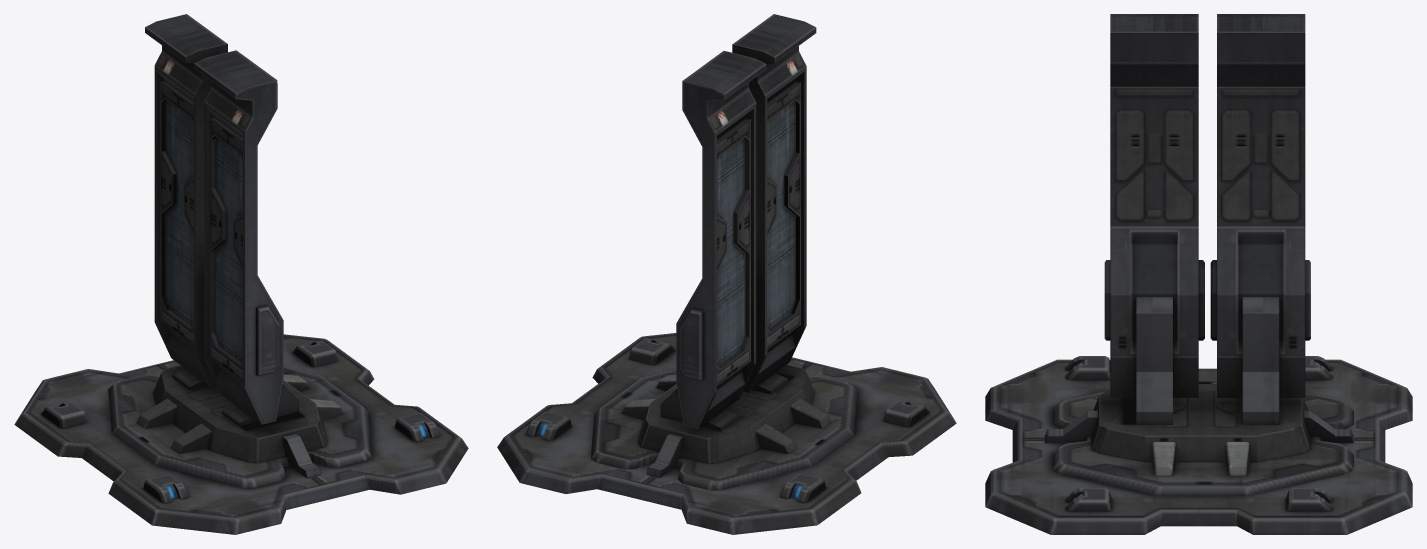
The model's file is Communication-Tower.FBX.
3 views of the same model, side by side, from view 1: azimuth 30°, elevation 25°; view 2: azimuth 150°, elevation 25°; view 3: azimuth 270°, elevation 25° (orthographic). The views are drawn at different scales.
Visible parts, largest first — view 1: Communication-Tower; view 2: Communication-Tower; view 3: Communication-Tower.
Part boxes in pixels (x1,y1,x2,y2): Communication-Tower: (14,14,468,534); Communication-Tower: (497,14,956,534); Communication-Tower: (985,14,1412,534).
Bounding box in the file's own units: 1019 × 1192 × 1109.
